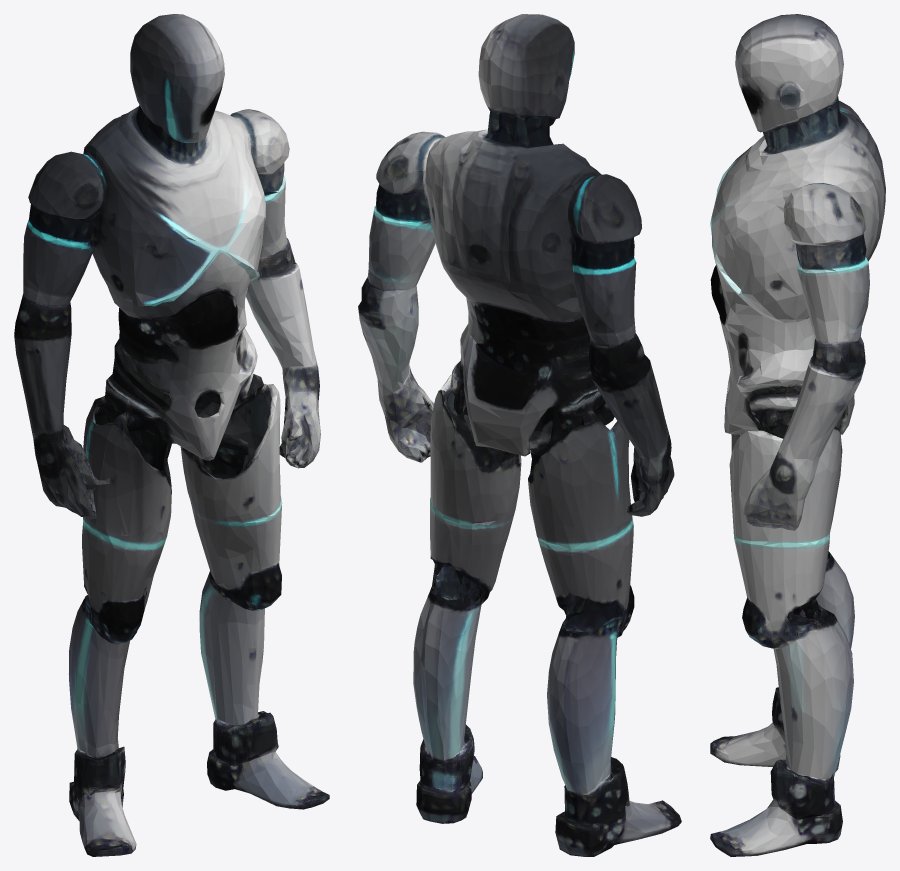
File: robot.glb
3 renders of one model, left to right at view 1: azimuth 30°, elevation 25°; view 2: azimuth 150°, elevation 25°; view 3: azimuth 270°, elevation 25°, orthographic. The views are drawn at different scales.
Visible parts, largest first — view 1: world; view 2: world; view 3: world.
Part boxes in pixels (x1,y1,x2,y2): world: (14,14,329,856); world: (358,14,681,856); world: (710,14,885,856).
Bounding box in the file's own units: 0.3732 × 1 × 0.2035.
Materials: 1 (1 with a texture image).
